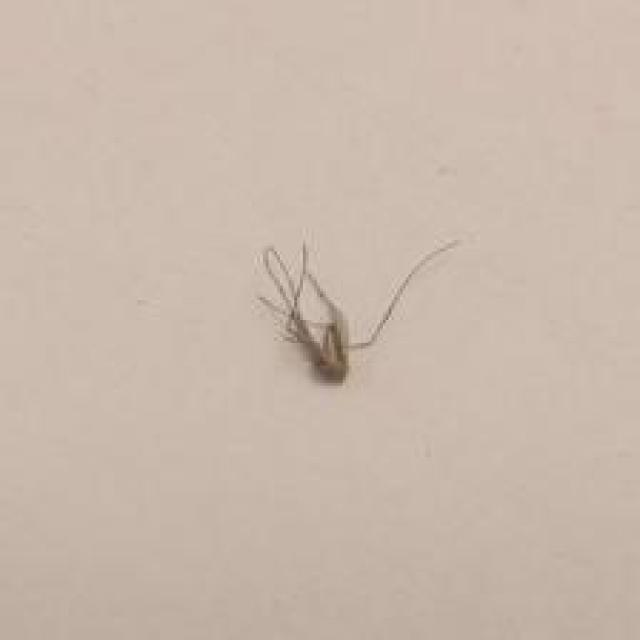Culex: (256, 234, 461, 383)
